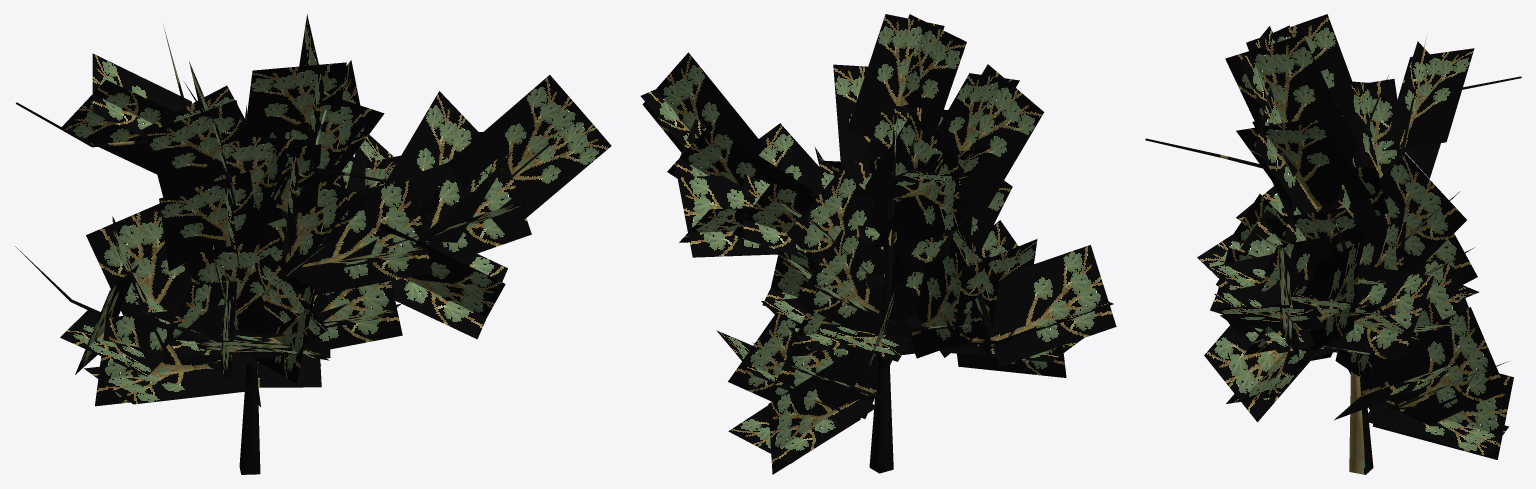
Rendered from sapling.glb.
The picture shows the model from 3 angles, left to right: view 1: azimuth 30°, elevation 25°; view 2: azimuth 150°, elevation 25°; view 3: azimuth 270°, elevation 25°; orthographic projection. The views are drawn at different scales.
Visible parts, largest first — view 1: sapling.033; view 2: sapling.033; view 3: sapling.033.
Boxes of the visible parts, bbox=[...] form: sapling.033: bbox=[15, 14, 611, 474]; sapling.033: bbox=[640, 14, 1116, 474]; sapling.033: bbox=[1145, 14, 1521, 474].
Bounding box in the file's own units: 1.56 × 1.33 × 1.01.
1 material, 1 textured.
